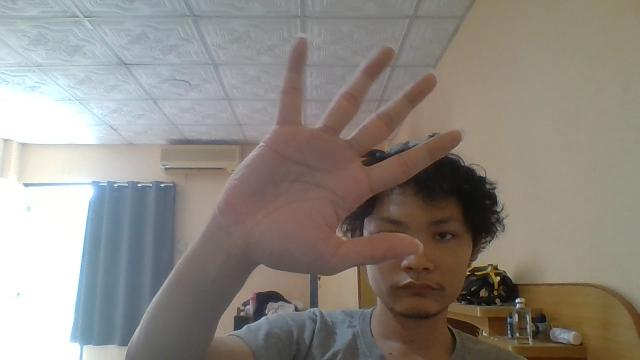Stop: (215, 36, 462, 276)
